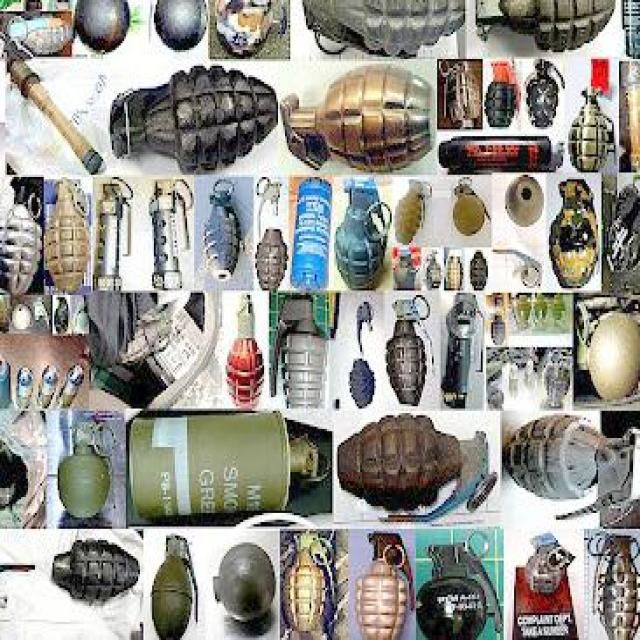grenade: (131, 414, 332, 528), (111, 65, 281, 174), (282, 65, 440, 178), (339, 414, 498, 525), (505, 414, 639, 530), (416, 525, 505, 639), (303, 1, 462, 62), (470, 1, 618, 60), (272, 294, 332, 409), (353, 532, 417, 639), (578, 294, 639, 403), (335, 178, 393, 285), (281, 532, 338, 639), (386, 294, 438, 409), (57, 419, 115, 521), (1, 410, 48, 532), (52, 539, 141, 602), (552, 176, 601, 289), (47, 178, 94, 292), (589, 532, 639, 639), (152, 532, 201, 639), (442, 291, 485, 412), (213, 544, 278, 623), (150, 178, 195, 290), (204, 178, 247, 292), (1, 190, 45, 299), (95, 176, 137, 290), (440, 135, 566, 173), (227, 292, 267, 410), (214, 1, 288, 60), (293, 180, 333, 287), (570, 83, 617, 174), (255, 178, 290, 292), (73, 1, 132, 58), (606, 180, 639, 280), (148, 1, 209, 55), (526, 532, 571, 602), (440, 60, 483, 129), (120, 314, 171, 371), (526, 60, 568, 128), (8, 15, 74, 58), (454, 176, 492, 242), (395, 183, 435, 242), (484, 76, 522, 133), (541, 348, 571, 410), (351, 360, 379, 414), (393, 246, 421, 289), (59, 364, 85, 408), (620, 1, 639, 58), (38, 366, 60, 410), (470, 249, 491, 292), (425, 244, 444, 291), (491, 296, 508, 348), (447, 253, 466, 296), (19, 366, 35, 409), (1, 353, 13, 409), (34, 298, 52, 335), (73, 296, 88, 332), (13, 303, 32, 330), (55, 299, 70, 333), (510, 364, 518, 400), (1, 296, 8, 335), (527, 359, 536, 389)
